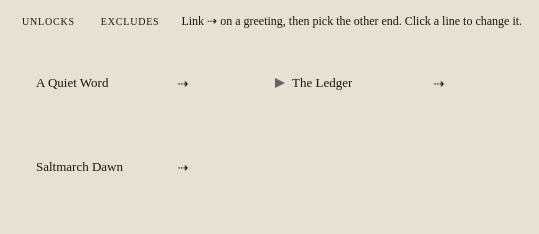
it: a pair that is already linked is refused rather than quietly relinked
The image size is (539, 234).
Click the button named "Link from The Ledger".
click(439, 83)  # box [426,57,452,109]
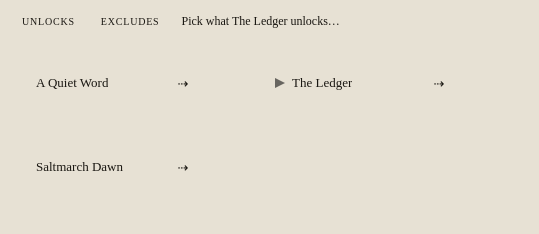
Click the button with aria-label "Link The Ledger to A Quiet Word".
click(99, 83)  # box [28,57,170,109]
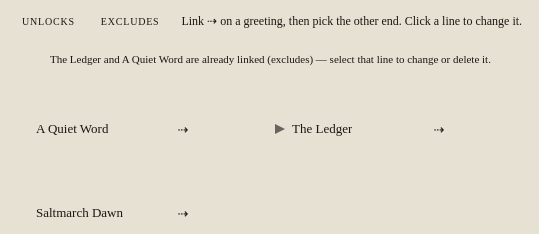
Now the text "already linked" is shown, box [50,53,491,65]
